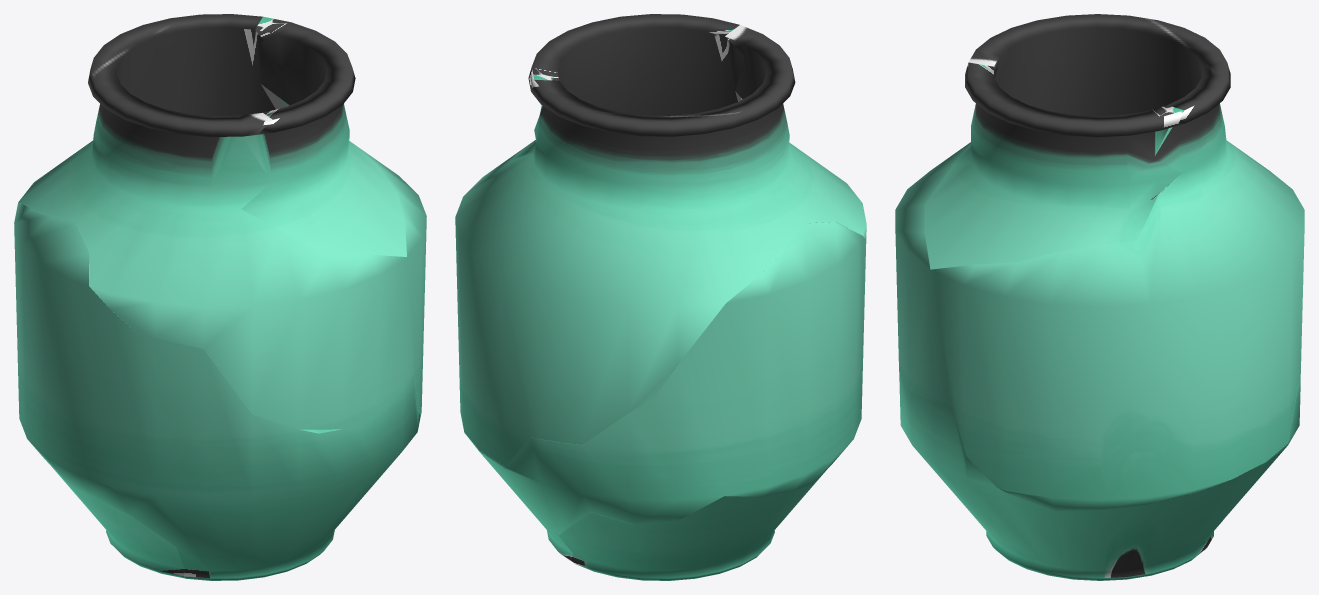
Rendered from ShatteredPot3.fbx.
The picture shows the model from 3 angles, left to right: view 1: azimuth 30°, elevation 25°; view 2: azimuth 150°, elevation 25°; view 3: azimuth 270°, elevation 25°; orthographic projection.
Visible parts, largest first — view 1: polySurface28, polySurface27, polySurface29, polySurface26; view 2: polySurface28, polySurface27, polySurface29, polySurface26; view 3: polySurface28, polySurface29, polySurface27.
Part boxes in pixels (x1,y1,x2,y2): polySurface28: (18,14,426,429); polySurface27: (14,202,420,580); polySurface29: (241,16,406,256); polySurface26: (51,466,184,578); polySurface28: (455,25,866,466); polySurface27: (465,222,866,562); polySurface29: (513,14,744,159); polySurface26: (559,472,824,580); polySurface28: (895,14,1304,511); polySurface29: (924,62,1184,269); polySurface27: (899,372,1300,580).
Size of the model in its own units: 0.4734 by 0.5915 by 0.4699.
